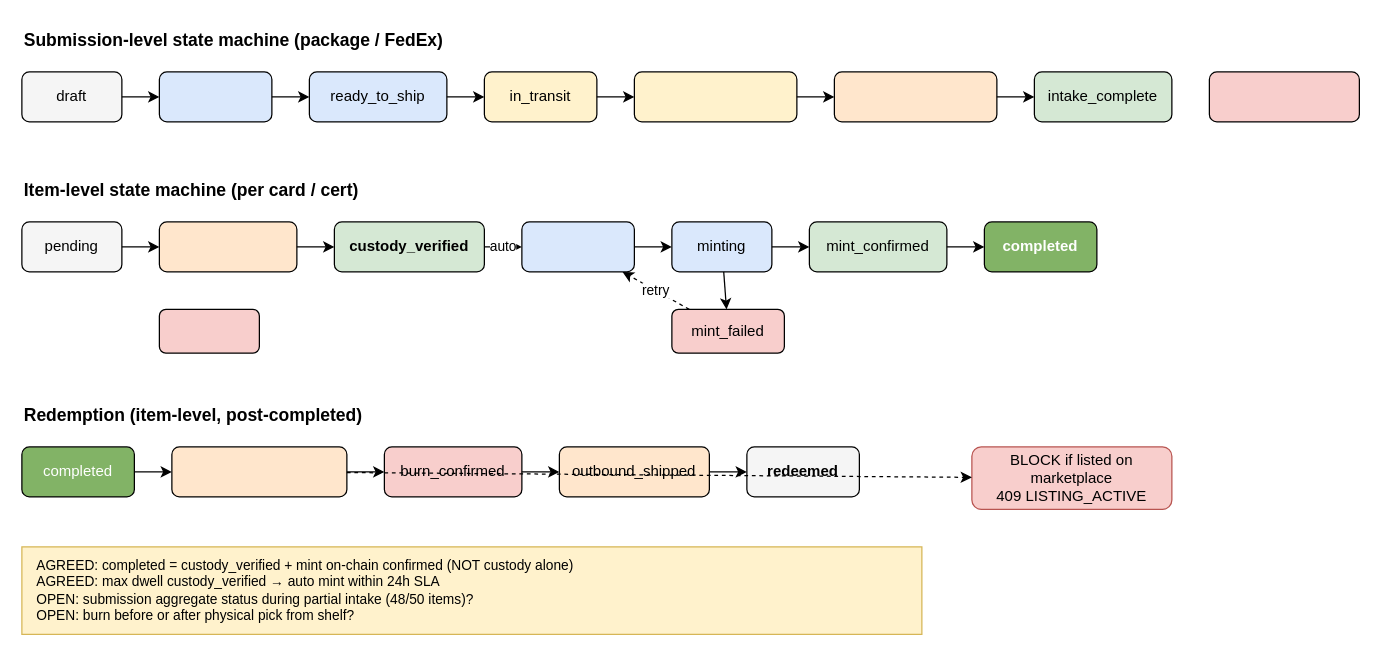
Image size: 1381x656. Some labels were removed from this diagram. The shapes that lost their labels are listed below. From the top down, each one's centre as x and y in pixels, then its label:
At point 215,96: "submitted".
At point 715,96: "delivered_to_vault".
At point 915,96: "intake_in_progress".
At point 1283,96: "closed / exception".
At point 227,246: "custody_pending".
At point 577,246: "mint_queued".
At point 208,330: "rejected".
At point 259,471: "redemption_requested".
